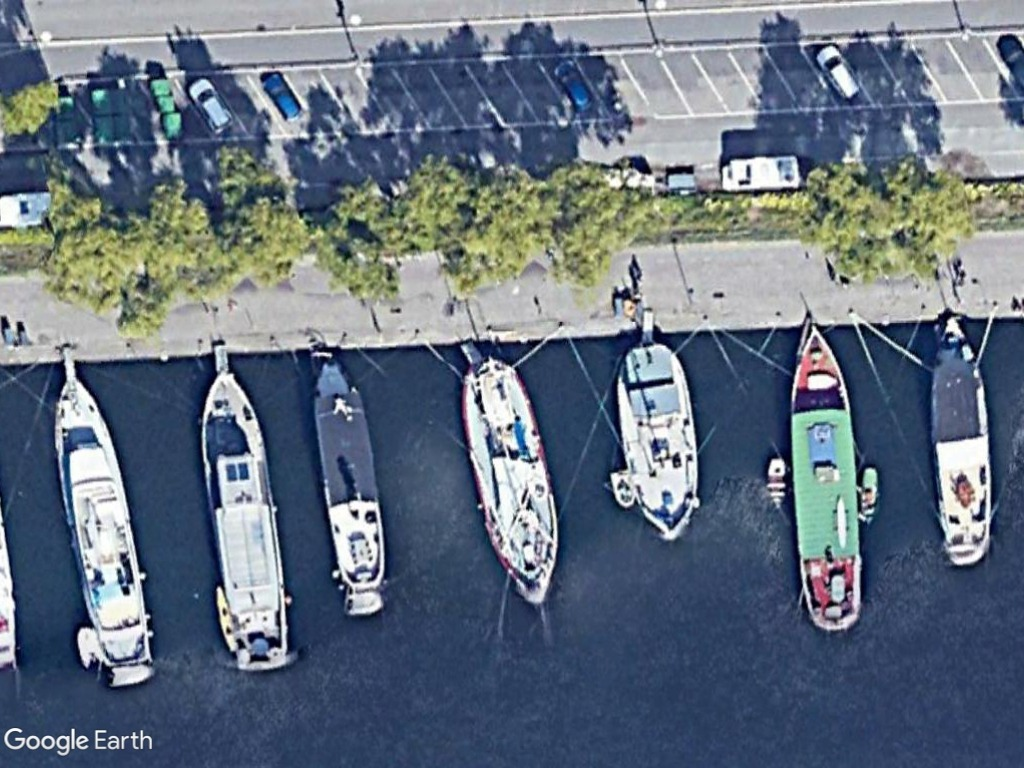boat: (45, 373, 167, 692), (189, 368, 296, 677), (775, 322, 871, 641), (454, 343, 563, 614), (296, 349, 397, 624), (912, 312, 998, 571), (615, 341, 712, 548)
car: (811, 40, 867, 107), (185, 73, 236, 143), (258, 67, 312, 128)
